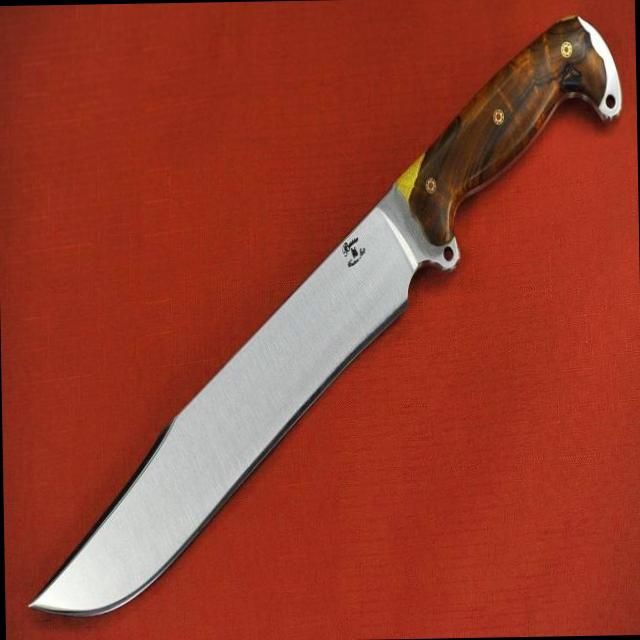Knife: (31, 15, 621, 615)
